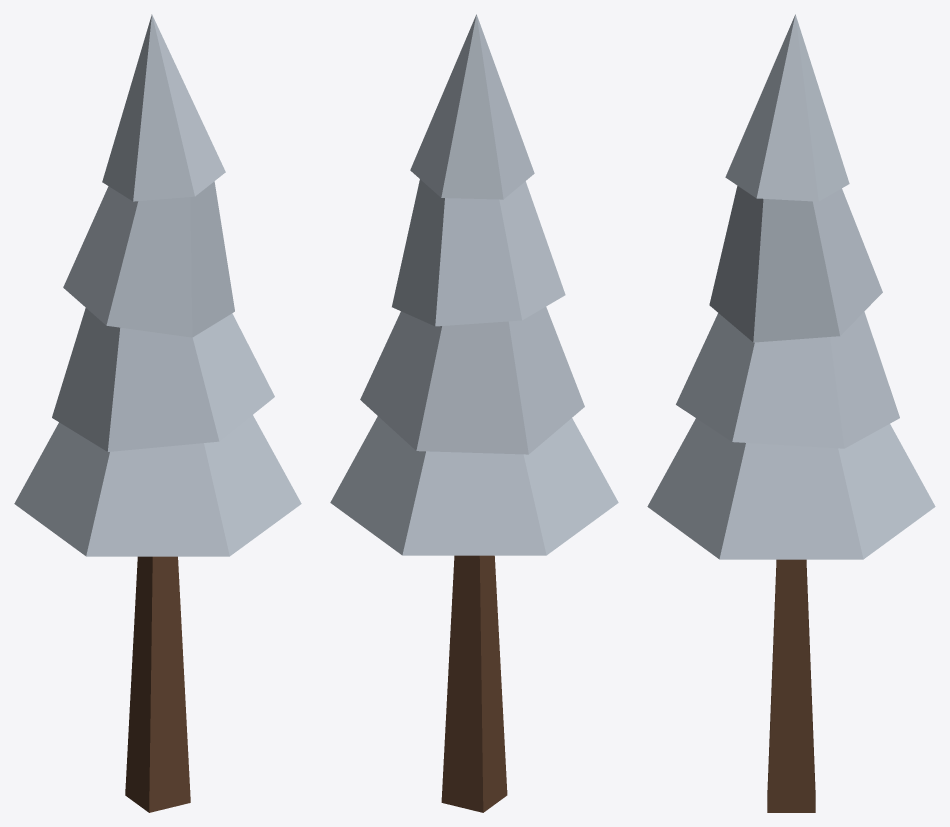
File: nk_snow_pinetall_c.glb
The picture shows the model from 3 angles, left to right: view 1: azimuth 30°, elevation 25°; view 2: azimuth 150°, elevation 25°; view 3: azimuth 270°, elevation 25°; orthographic projection.
Parts seen in each view (by area): view 1: tree_pineTallC; view 2: tree_pineTallC; view 3: tree_pineTallC.
Boxes of the visible parts, bbox=[...] form: tree_pineTallC: bbox=[14, 14, 301, 812]; tree_pineTallC: bbox=[330, 14, 618, 812]; tree_pineTallC: bbox=[647, 14, 935, 812].
Size of the model in its own units: 2.44 by 8.5 by 2.82.
